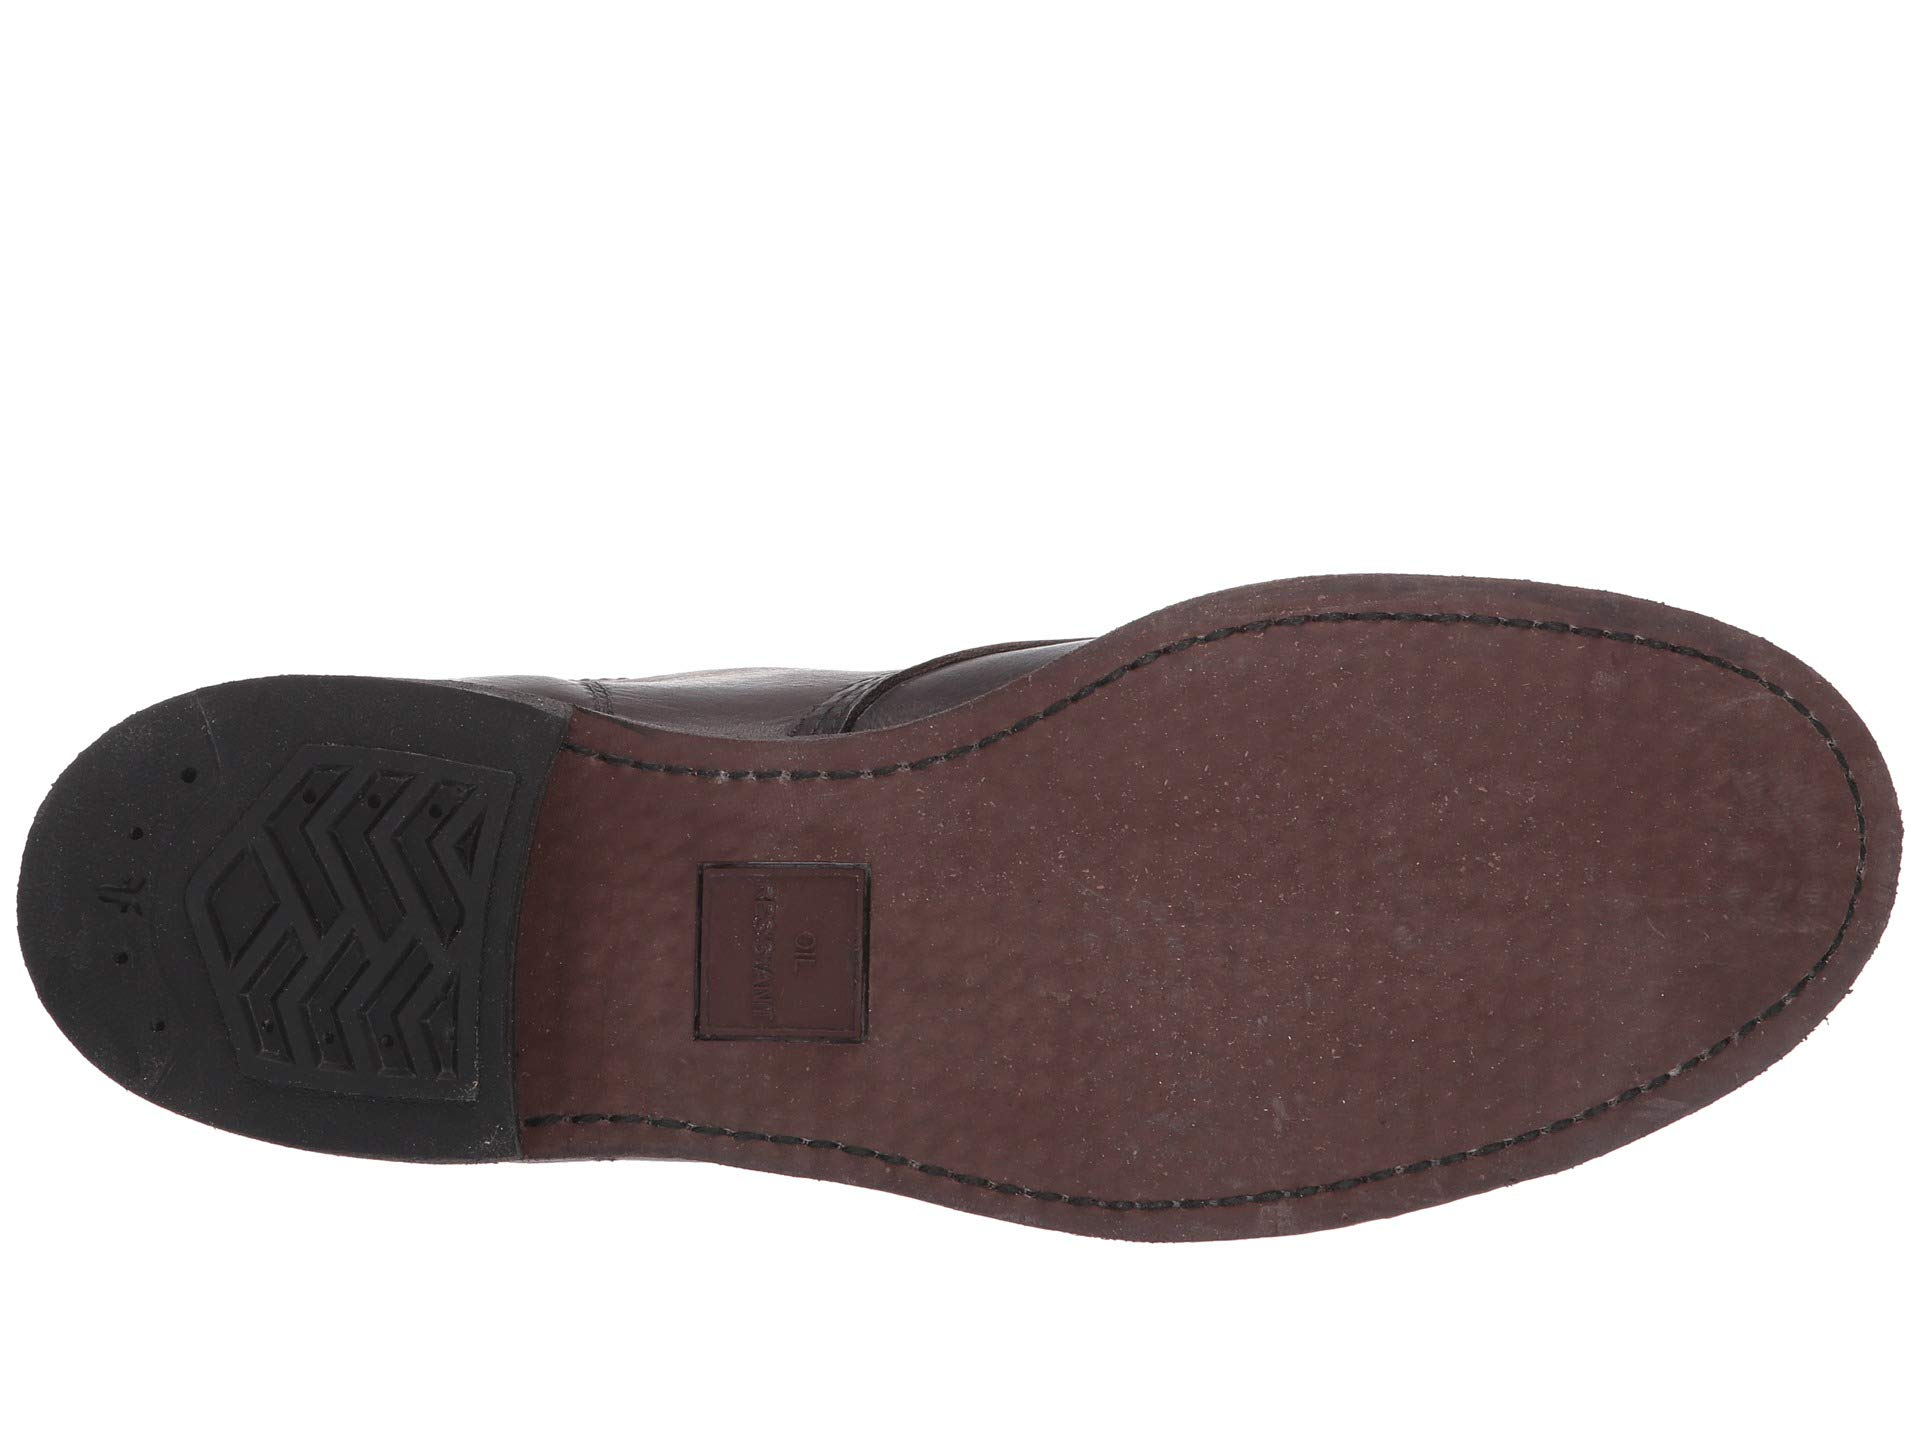chevron: (200, 740, 502, 1080)
quad: (200, 740, 502, 1080)
triangle: (200, 740, 502, 1080)
